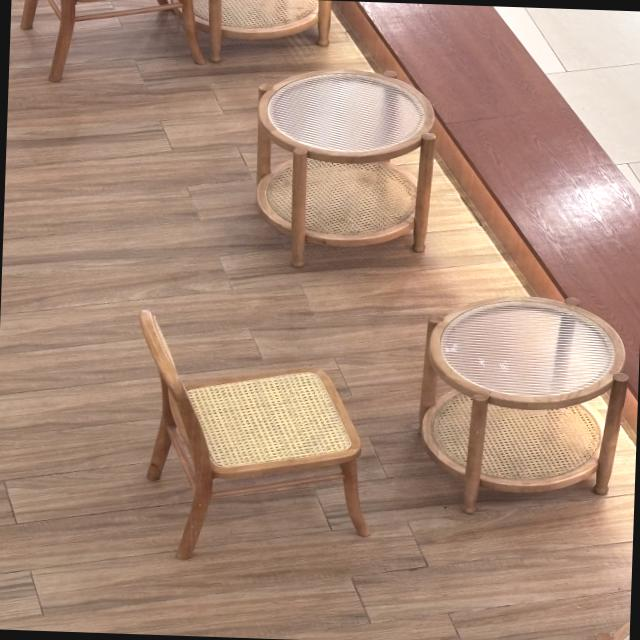Chair: (110, 292, 378, 568)
